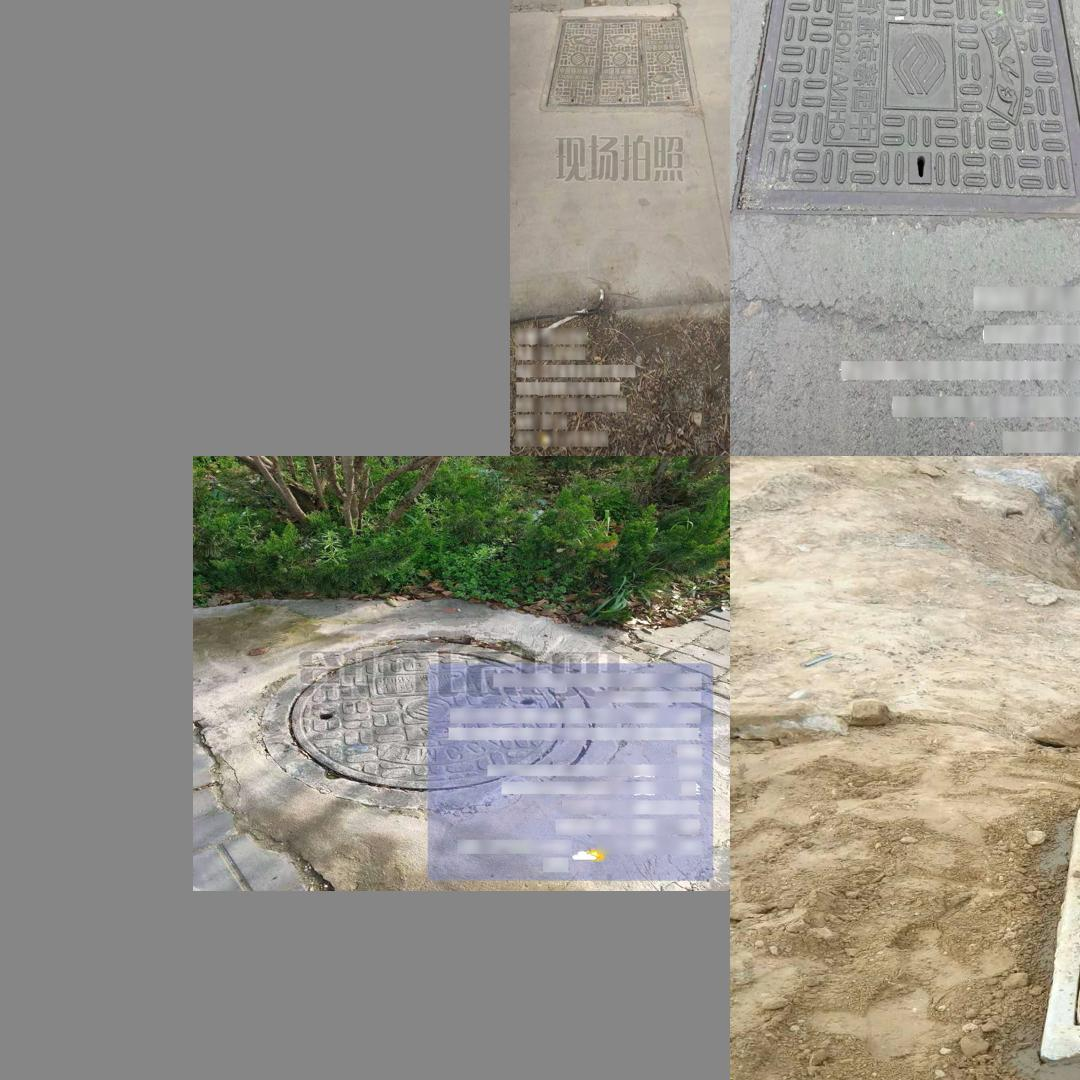good: (730, 0, 1080, 218), (260, 642, 591, 811), (538, 15, 699, 112), (1036, 805, 1080, 1059)
